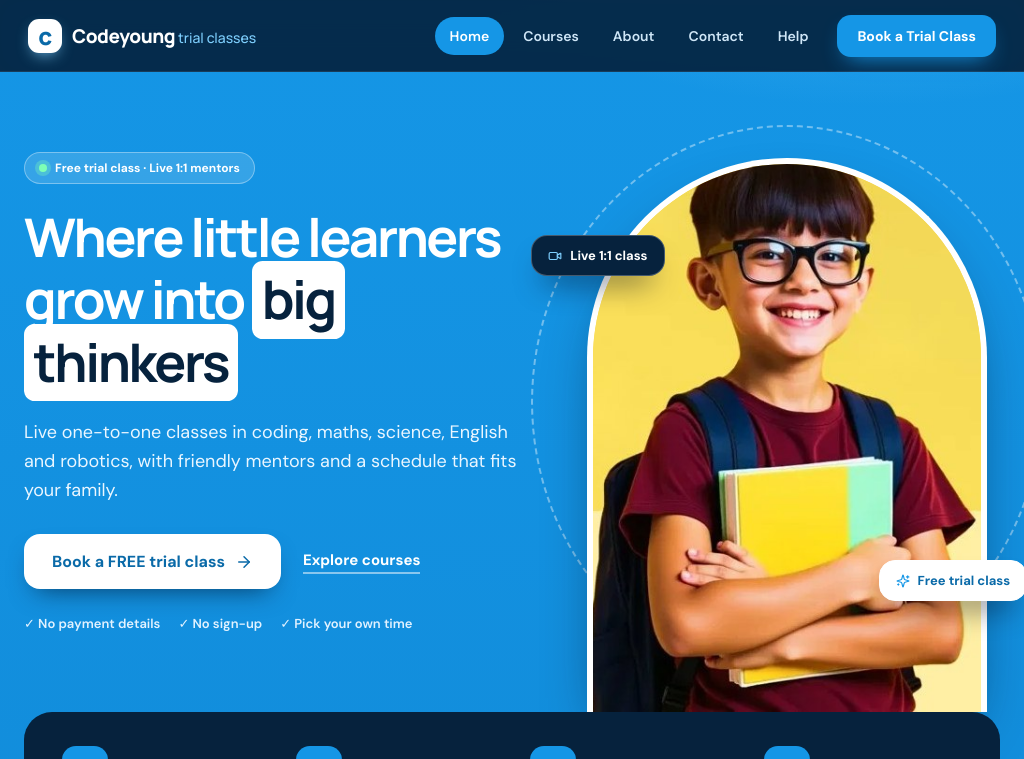
Test: home page and navigation › Contact and Help are dummy links that only show a notice
Click the button "Contact".
click(716, 36)  # box x1=674 y1=16 x2=759 y2=54
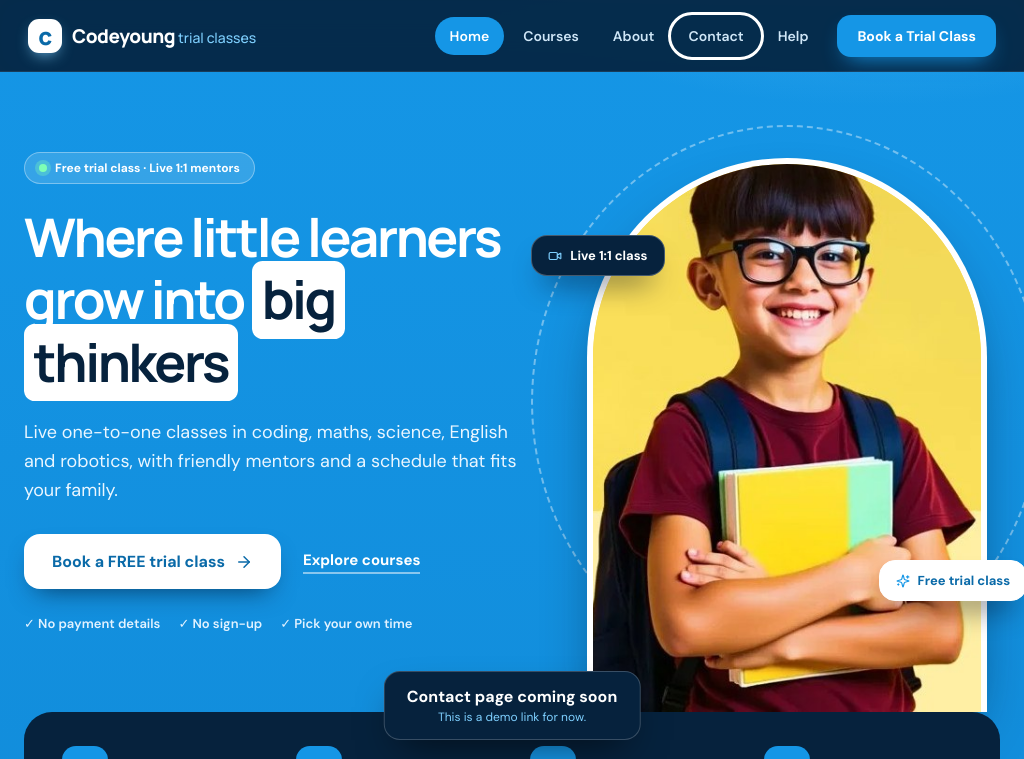
Expected: the message shows "Contact page coming soon", x1=384 y1=671 x2=640 y2=740
Click the button "Help".
click(793, 36)  # box x1=763 y1=16 x2=824 y2=54
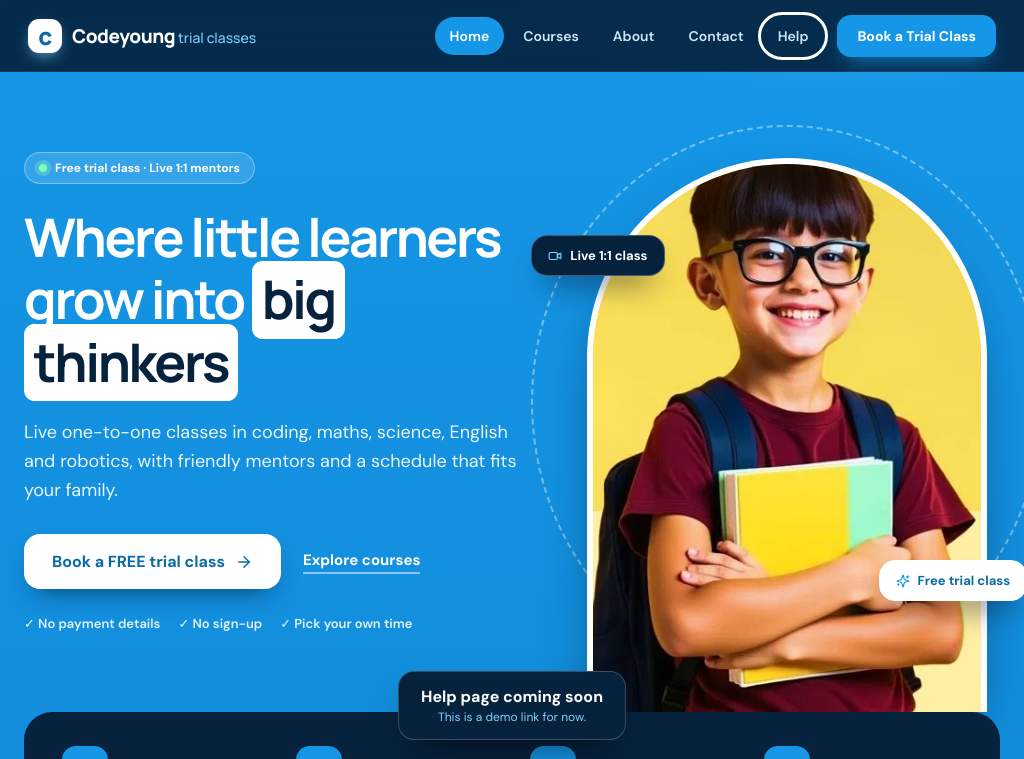
Expected: the message shows "Help page coming soon", x1=398 y1=671 x2=626 y2=740
